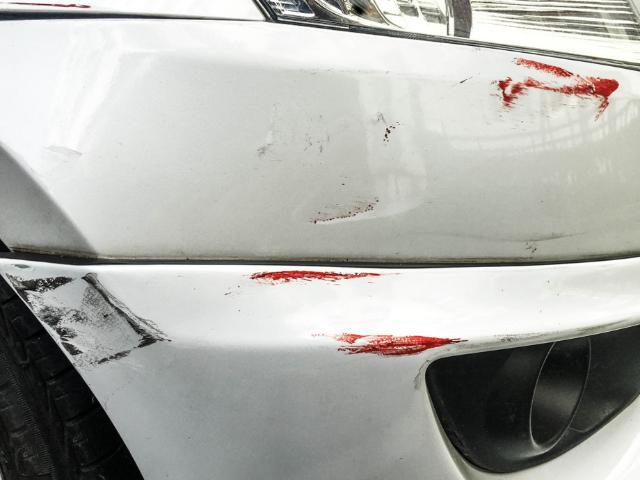Bumper: (11, 252, 506, 377)
Fender: (238, 32, 618, 244)
